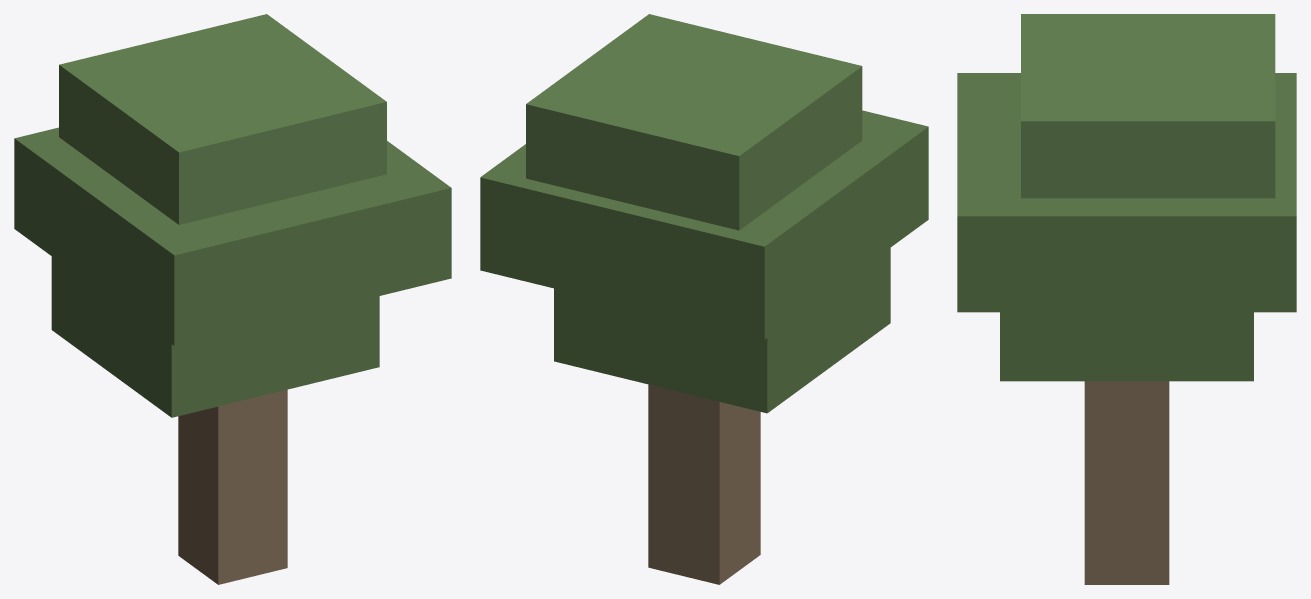
Rendered from encina_05.glb.
3 renders of one model, left to right at view 1: azimuth 30°, elevation 25°; view 2: azimuth 150°, elevation 25°; view 3: azimuth 270°, elevation 25°, orthographic. The views are drawn at different scales.
Parts seen in each view (by area): view 1: encina_05; view 2: encina_05; view 3: encina_05.
Part boxes in pixels (box(x1,y1,x2,y2)): encina_05: box(14, 14, 451, 584); encina_05: box(480, 14, 928, 584); encina_05: box(957, 14, 1296, 584).
Bounding box in the file's own units: 1.6 × 2.6 × 1.6.
